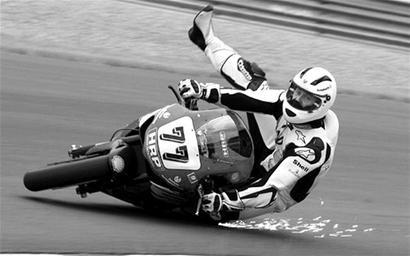falling: (159, 8, 343, 219)
